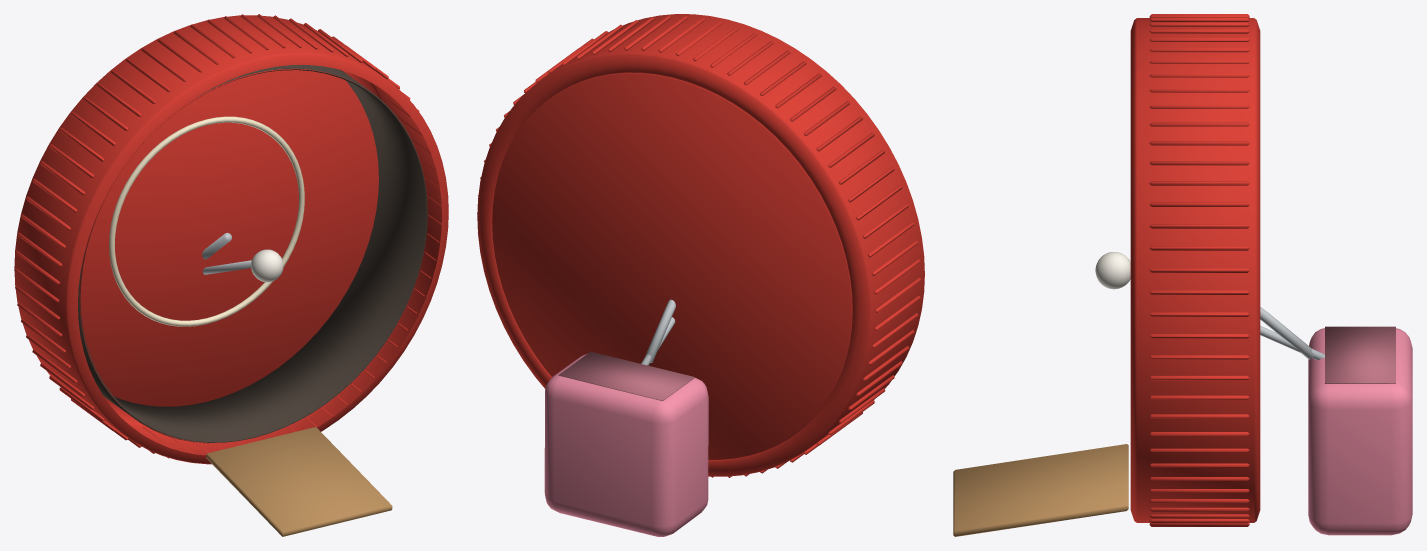
File: training-speedstation.glb
The picture shows the model from 3 angles, left to right: view 1: azimuth 30°, elevation 25°; view 2: azimuth 150°, elevation 25°; view 3: azimuth 270°, elevation 25°; orthographic projection. The views are drawn at different scales.
Parts seen in each view (by area): view 1: SpeedStation__Wheel, SpeedStation__Tread, SpeedStation__Ramp, SpeedStation__CapLogo, SpeedStation__PinHead; view 2: SpeedStation__Wheel, SpeedStation__Eraser, SpeedStation__EraserSmudge, SpeedStation__Brace; view 3: SpeedStation__Wheel, SpeedStation__Eraser, SpeedStation__Ramp, SpeedStation__EraserSmudge, SpeedStation__PinHead, SpeedStation__Brace.
Boxes of the visible parts, x1,y1,x2,y2 form: SpeedStation__Wheel: (14,14,448,464); SpeedStation__Tread: (78,65,427,443); SpeedStation__Ramp: (206,427,392,536); SpeedStation__CapLogo: (109,116,304,326); SpeedStation__PinHead: (251,249,283,282); SpeedStation__Wheel: (477,14,924,477); SpeedStation__Eraser: (544,354,708,536); SpeedStation__EraserSmudge: (558,351,694,400); SpeedStation__Brace: (645,299,675,362); SpeedStation__Wheel: (1130,14,1260,526); SpeedStation__Eraser: (1308,328,1412,535); SpeedStation__Ramp: (953,444,1128,536); SpeedStation__EraserSmudge: (1325,326,1395,383); SpeedStation__PinHead: (1095,252,1130,289); SpeedStation__Brace: (1260,307,1314,359).
Size of the model in its own units: 24.58 by 24.79 by 22.
